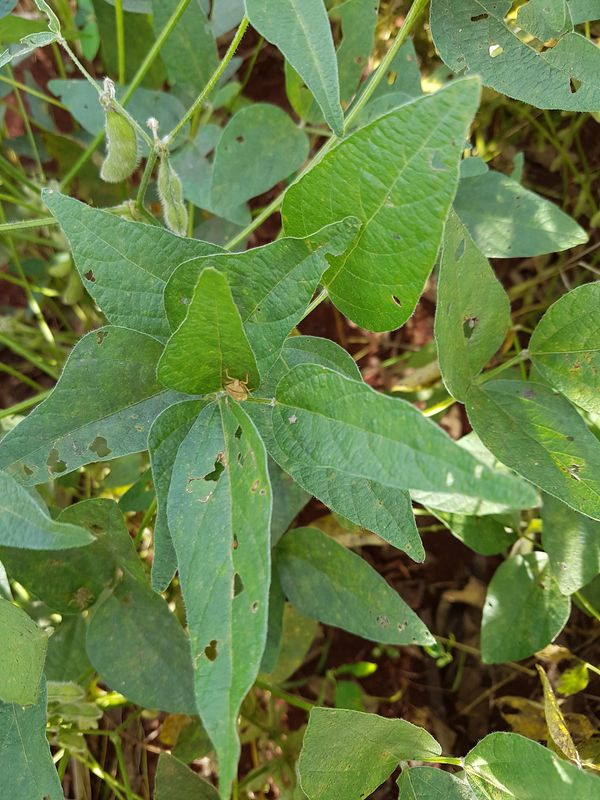Euschistus_heros_ninfa: (211, 363, 263, 413)
